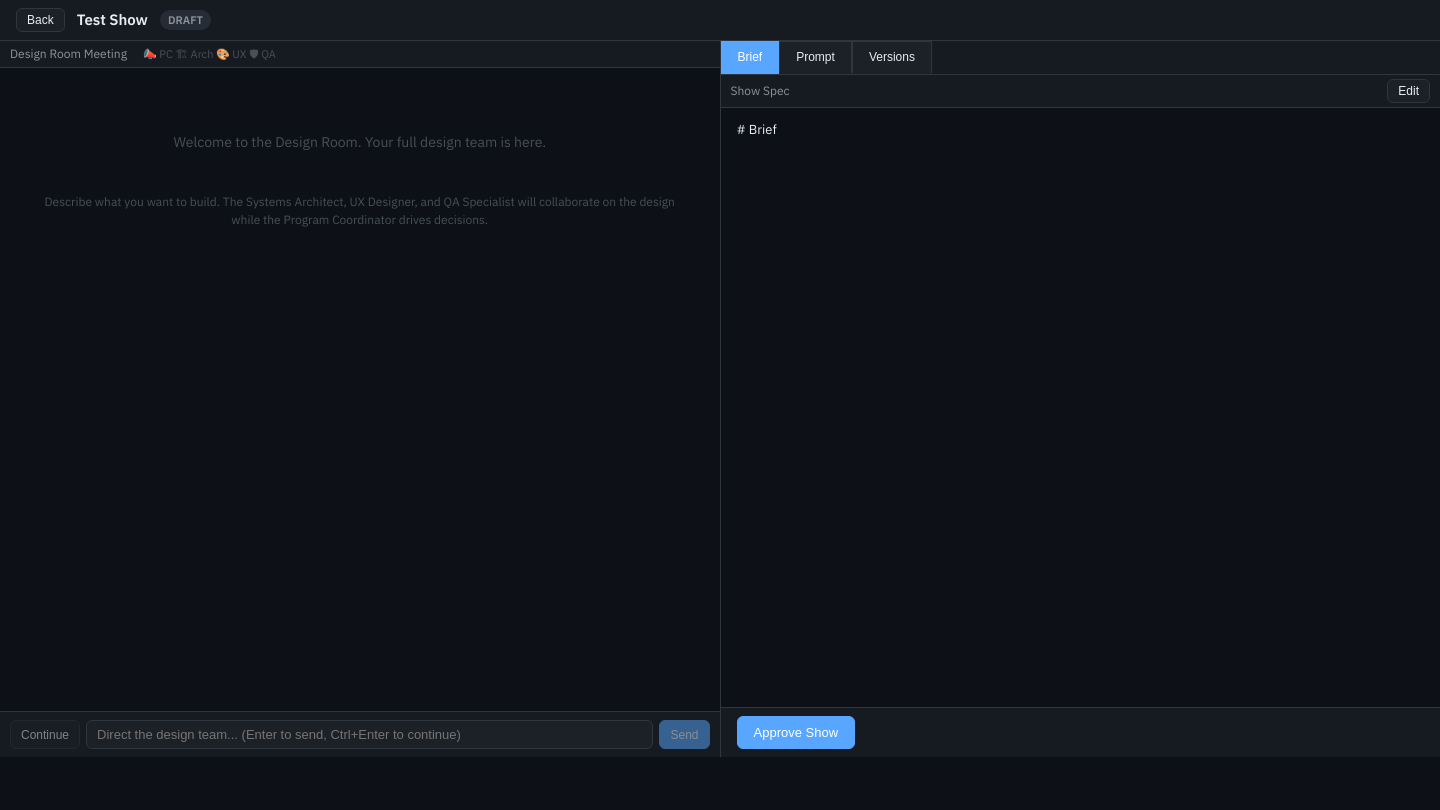
it: Thread Detail view › sends message with optimistic update
Replace the text in the field with placeholder "Direct the design team... (Enter to send, Ctrl+Enter to continue)" with "Add brass": (370, 734) [86,720,653,749]
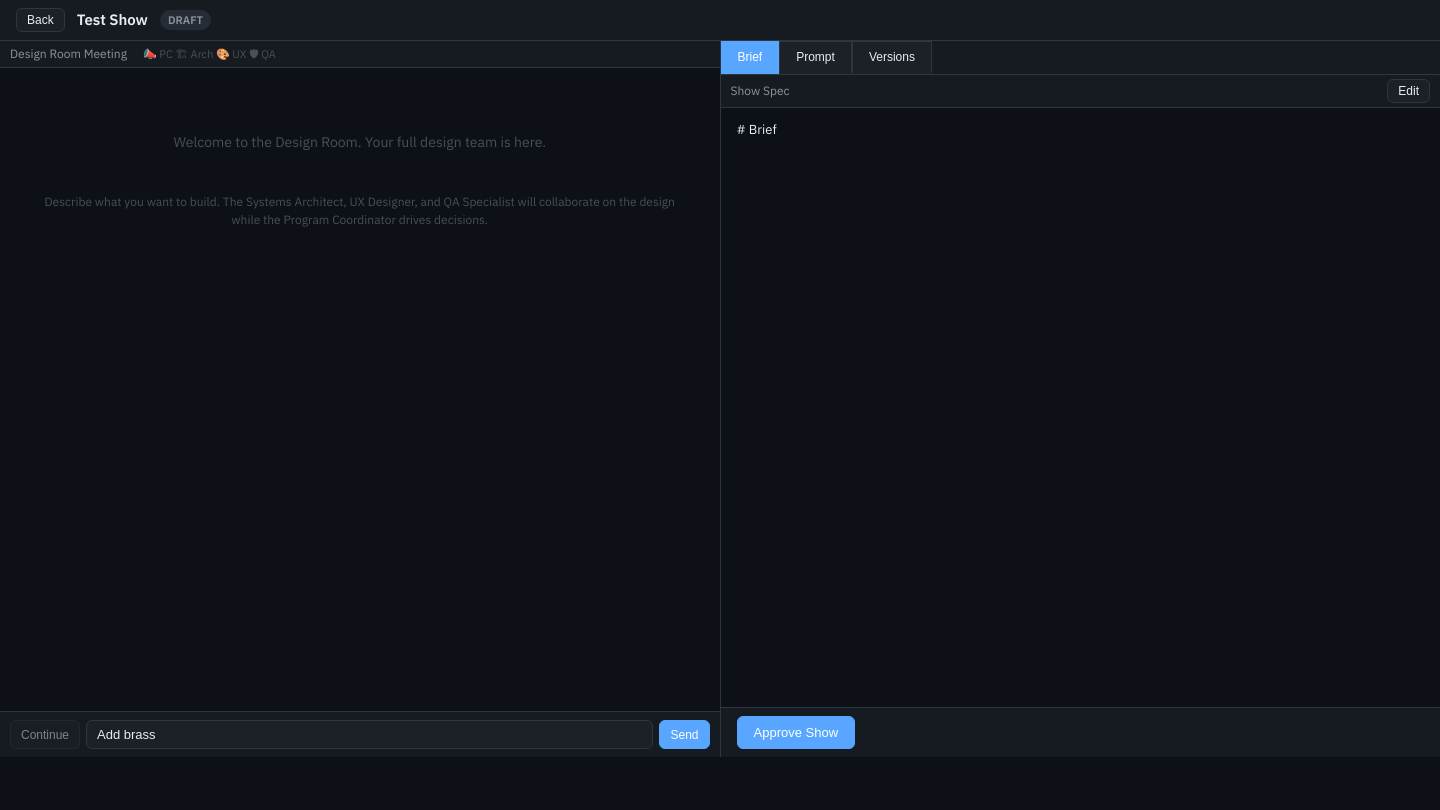
Click the button "Send": (684, 734) [660,720,710,749]
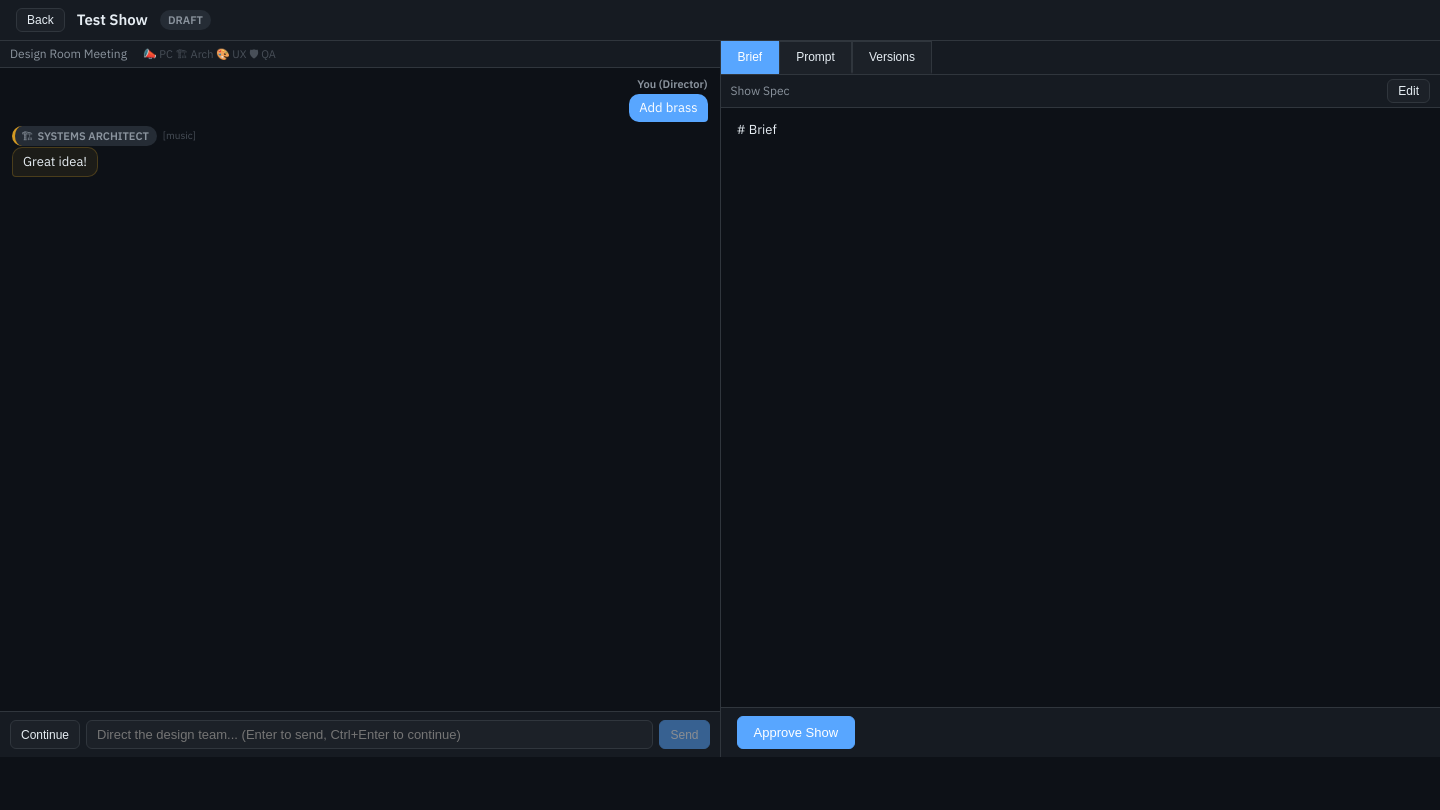
Check: the text "Add brass" is shown, box [629,94,708,122]
Check: the text "Great idea!" is shown, box [12,147,98,177]
